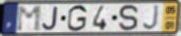4: (92, 5, 109, 32)
G: (66, 4, 89, 33)
J: (142, 4, 161, 31), (41, 5, 60, 31)
M: (16, 5, 43, 33)
S: (118, 4, 140, 33)
